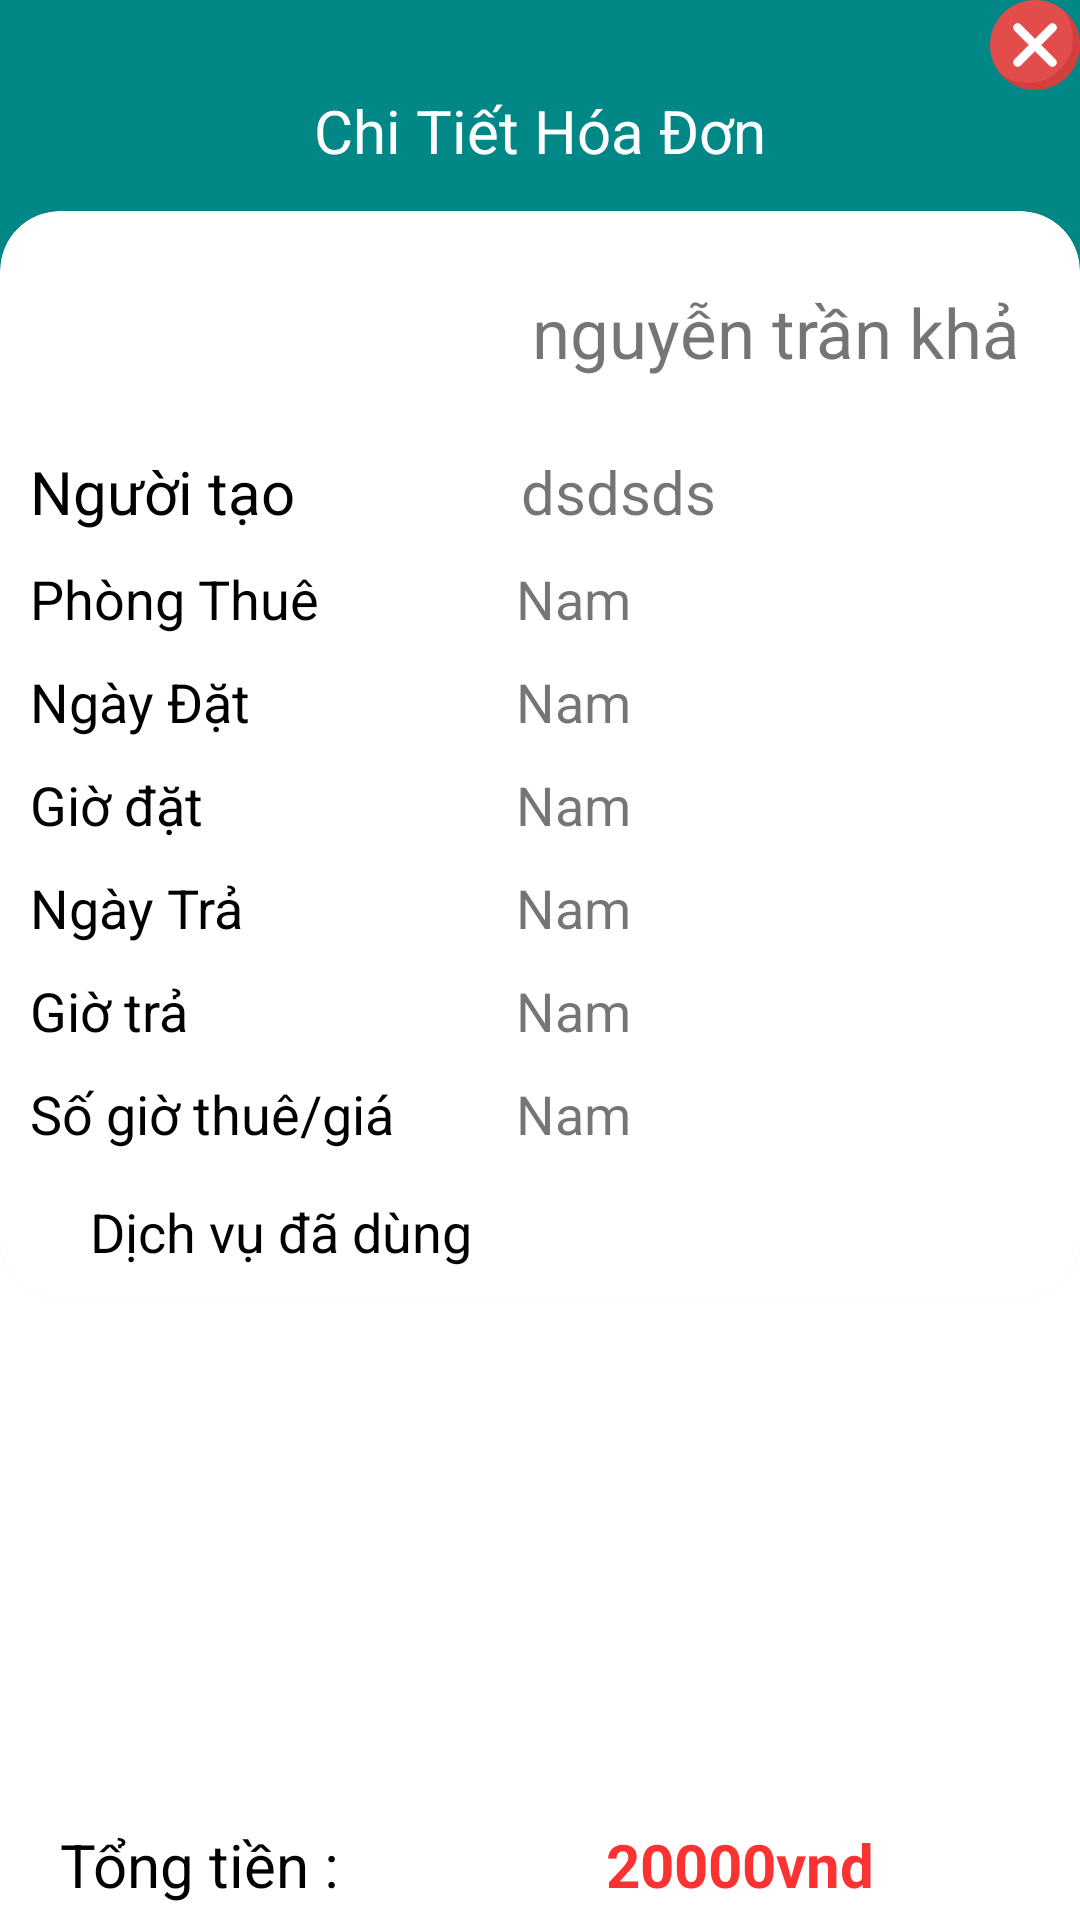

Screen size 1080x1920. Icon name, then its box in pixels as (x1, y1, x2, y2):
out dialog: (990, 0, 1080, 90)
